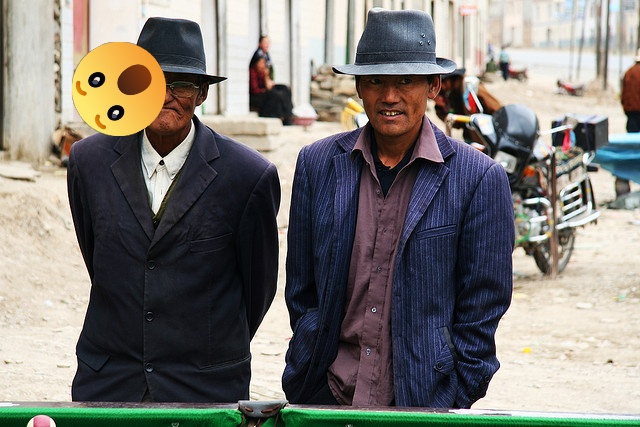wow: (72, 42, 166, 136)
